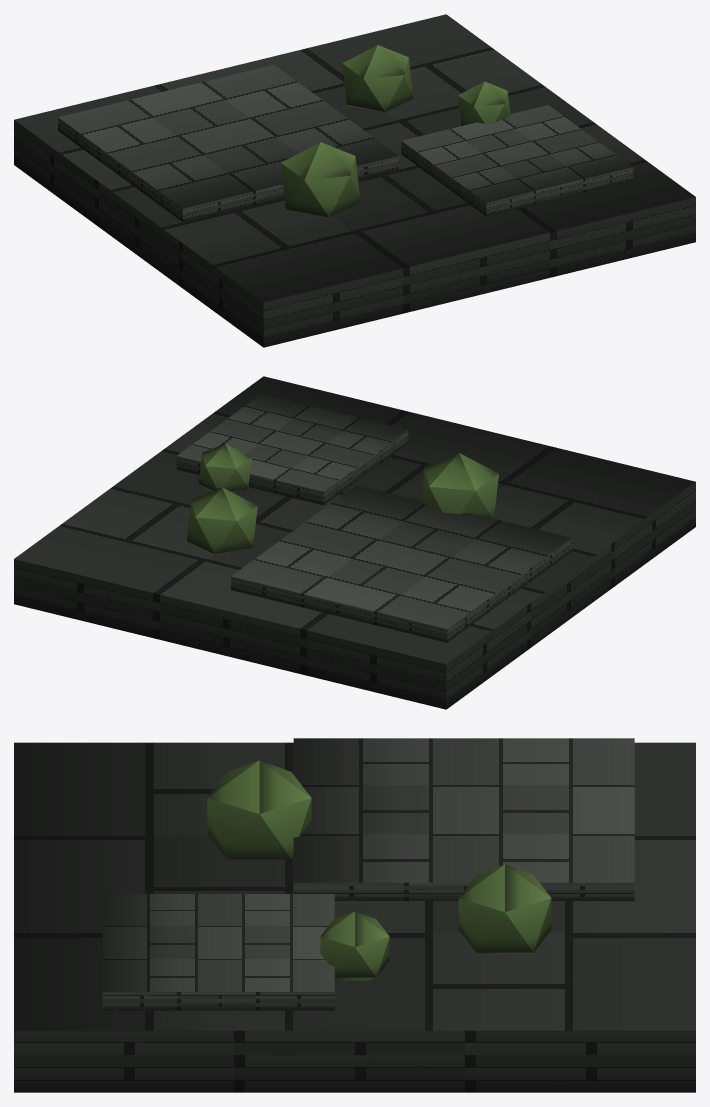
The model's file is ground_moss.gltf.
The picture shows the model from 3 angles, top to bottom: view 1: azimuth 30°, elevation 25°; view 2: azimuth 150°, elevation 25°; view 3: azimuth 270°, elevation 25°; orthographic projection. The views are drawn at different scales.
Parts seen in each view (by area): view 1: ground_moss; view 2: ground_moss; view 3: ground_moss.
Boxes of the visible parts, x1,y1,x2,y2 form: ground_moss: [14, 14, 695, 347]; ground_moss: [14, 376, 695, 709]; ground_moss: [14, 738, 695, 1092].
Bounding box in the file's own units: 1 × 0.23 × 1.
Materials: 1 (1 with a texture image).
